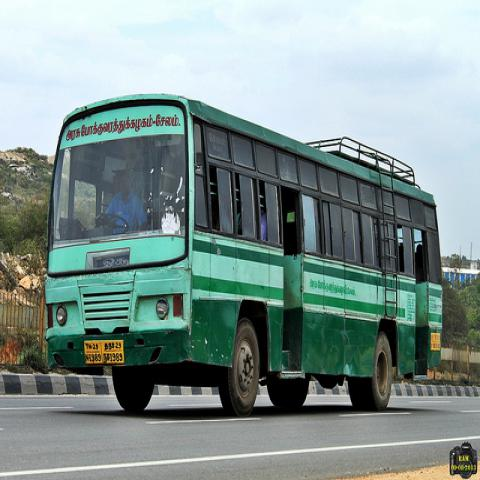bus: (44, 92, 444, 414)
